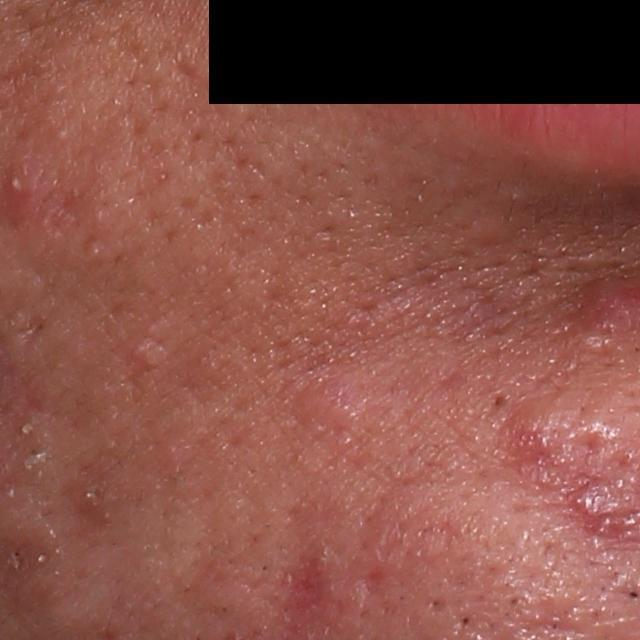atrophic_scar: (506, 596, 575, 635), (282, 559, 328, 612), (352, 561, 389, 603), (572, 429, 609, 470)
papule: (483, 393, 573, 462), (568, 476, 627, 520)
